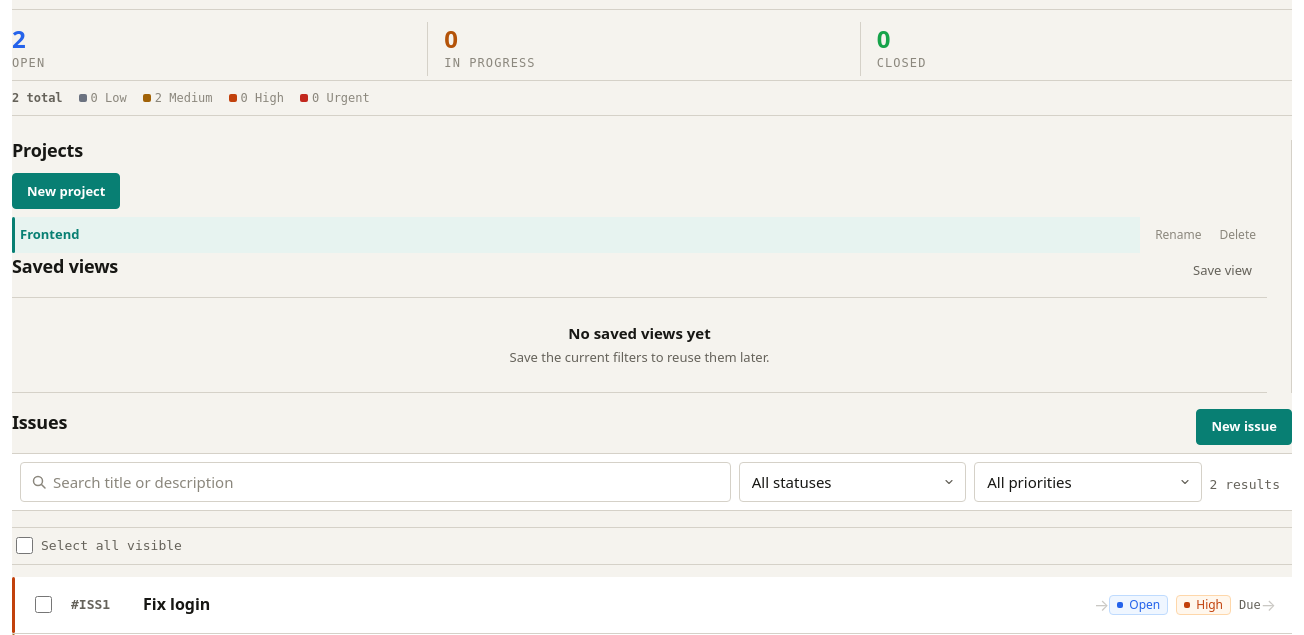
Test: WorkspacePage bulk actions › toggles a row checkbox without navigating and shows the toolbar
Expected: the text "Fix login" is shown, left=143, top=593, right=210, bottom=615
Expected: the text "1 selected" is not shown
Click the checkbox named "Select Fix login" at (44, 604), box left=35, top=596, right=52, bottom=613
(page scrolled)
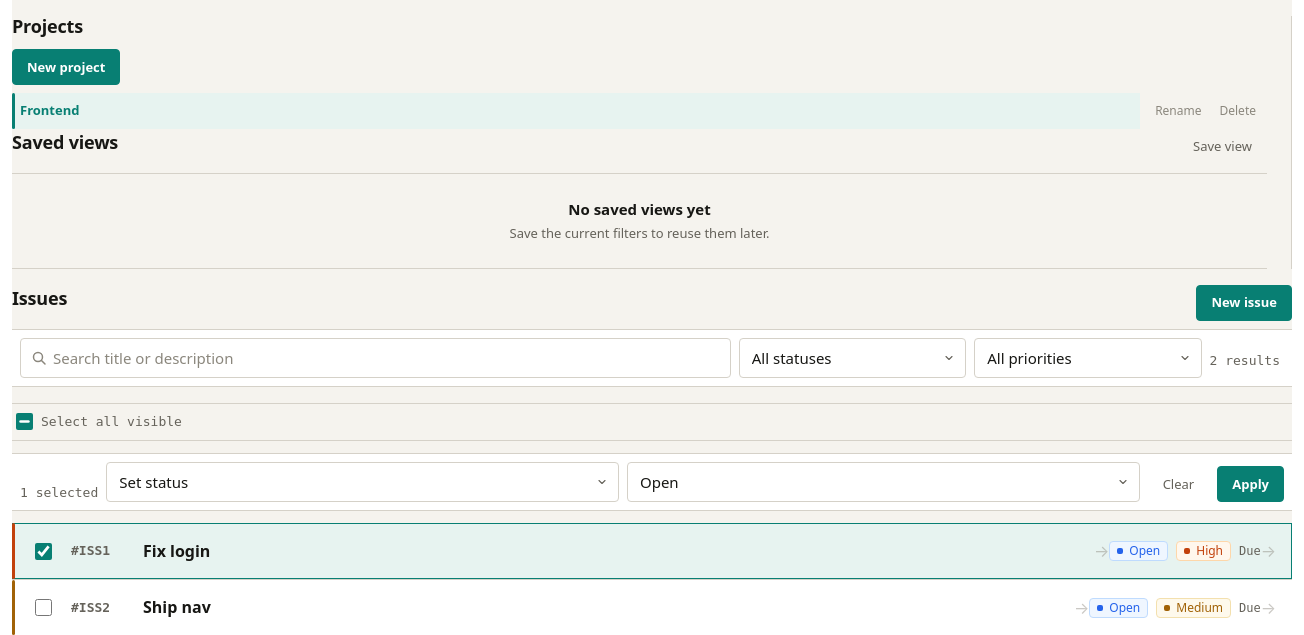
Now the text "1 selected" is shown, box left=20, top=482, right=98, bottom=502
Now the element named "Bulk actions" is shown, box left=12, top=452, right=1292, bottom=511
// Toggle off — toolbar disappears.
Click the checkbox named "Select Fix login" at (44, 551), box left=35, top=542, right=52, bottom=560
(page scrolled)
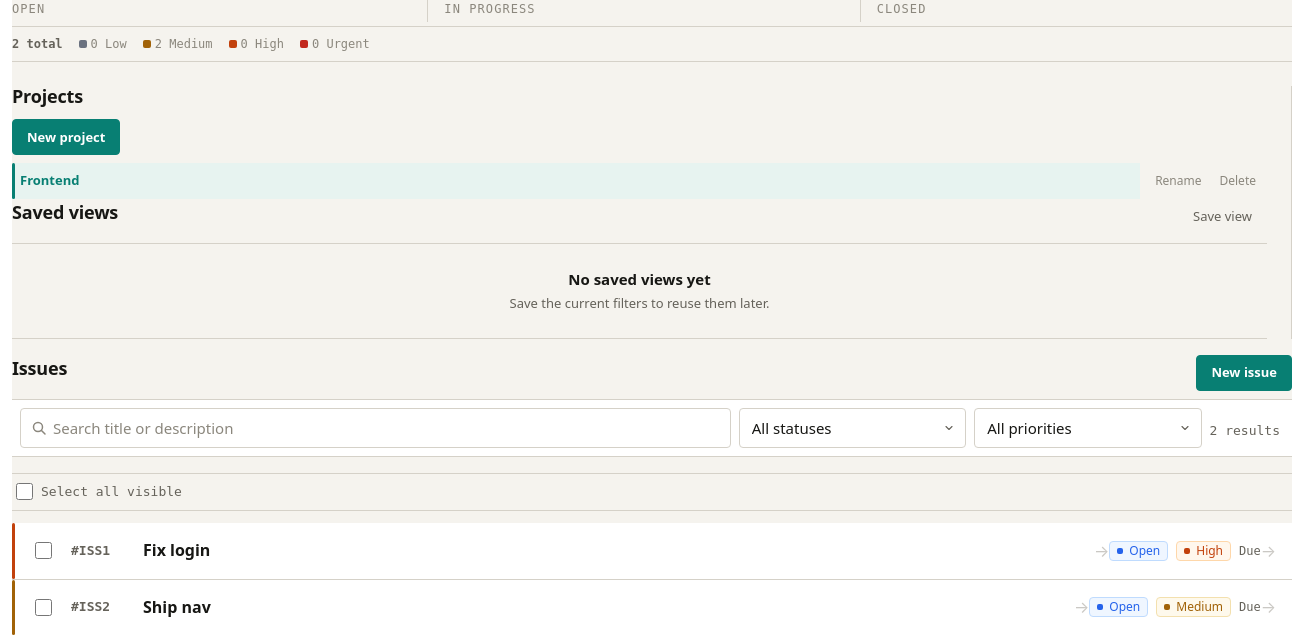
Expected: the dropdown labelled "Action" is not shown
Now the text "1 selected" is gone
